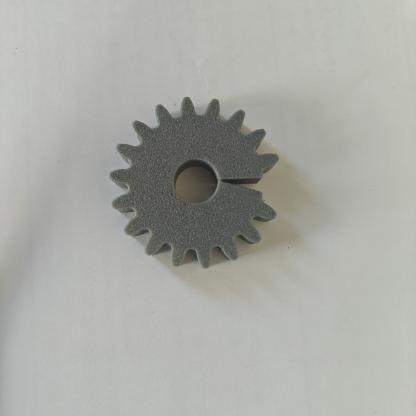defect: (207, 150, 314, 224)
gear: (108, 90, 300, 271)
